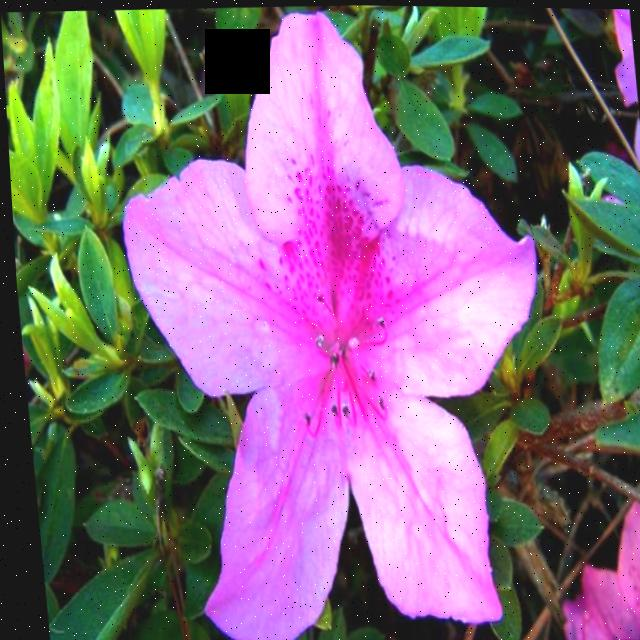azalea: (107, 1, 569, 640)
